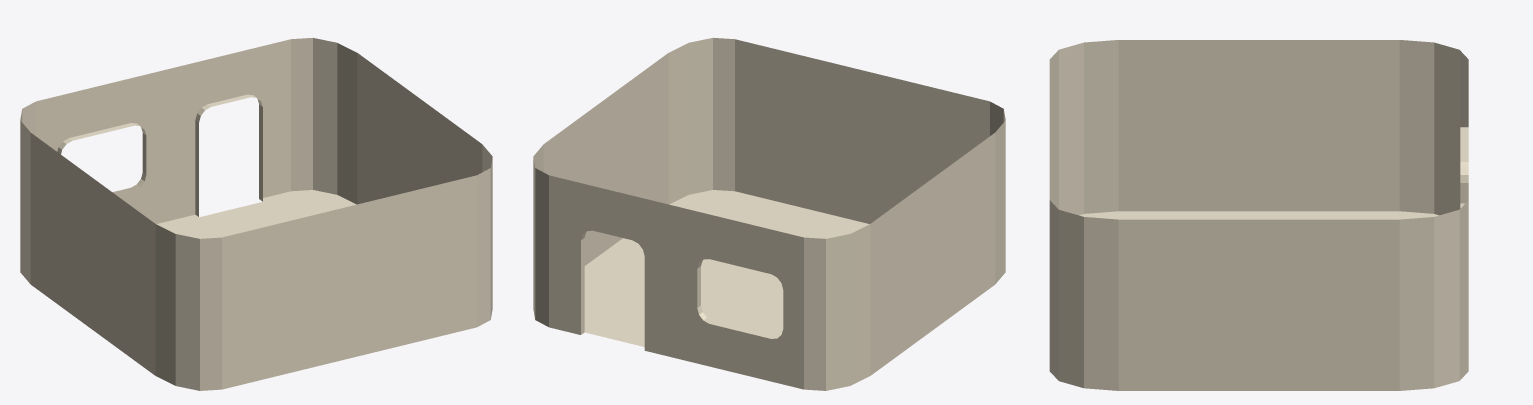
Rendered from Bld_C_low_L4_B.fbx.
The picture shows the model from 3 angles, left to right: view 1: azimuth 30°, elevation 25°; view 2: azimuth 150°, elevation 25°; view 3: azimuth 270°, elevation 25°; orthographic projection. The views are drawn at different scales.
Visible parts, largest first — view 1: Bld_C_low_L4_B_LOD0; view 2: Bld_C_low_L4_B_LOD0; view 3: Bld_C_low_L4_B_LOD0.
Part boxes in pixels (bbox=[...]): Bld_C_low_L4_B_LOD0: bbox=[20, 38, 492, 390]; Bld_C_low_L4_B_LOD0: bbox=[533, 38, 1005, 390]; Bld_C_low_L4_B_LOD0: bbox=[1049, 40, 1468, 390].
Size of what is drawn, in the model's own units: 1300 by 716 by 1420.
1 material, 1 textured.
